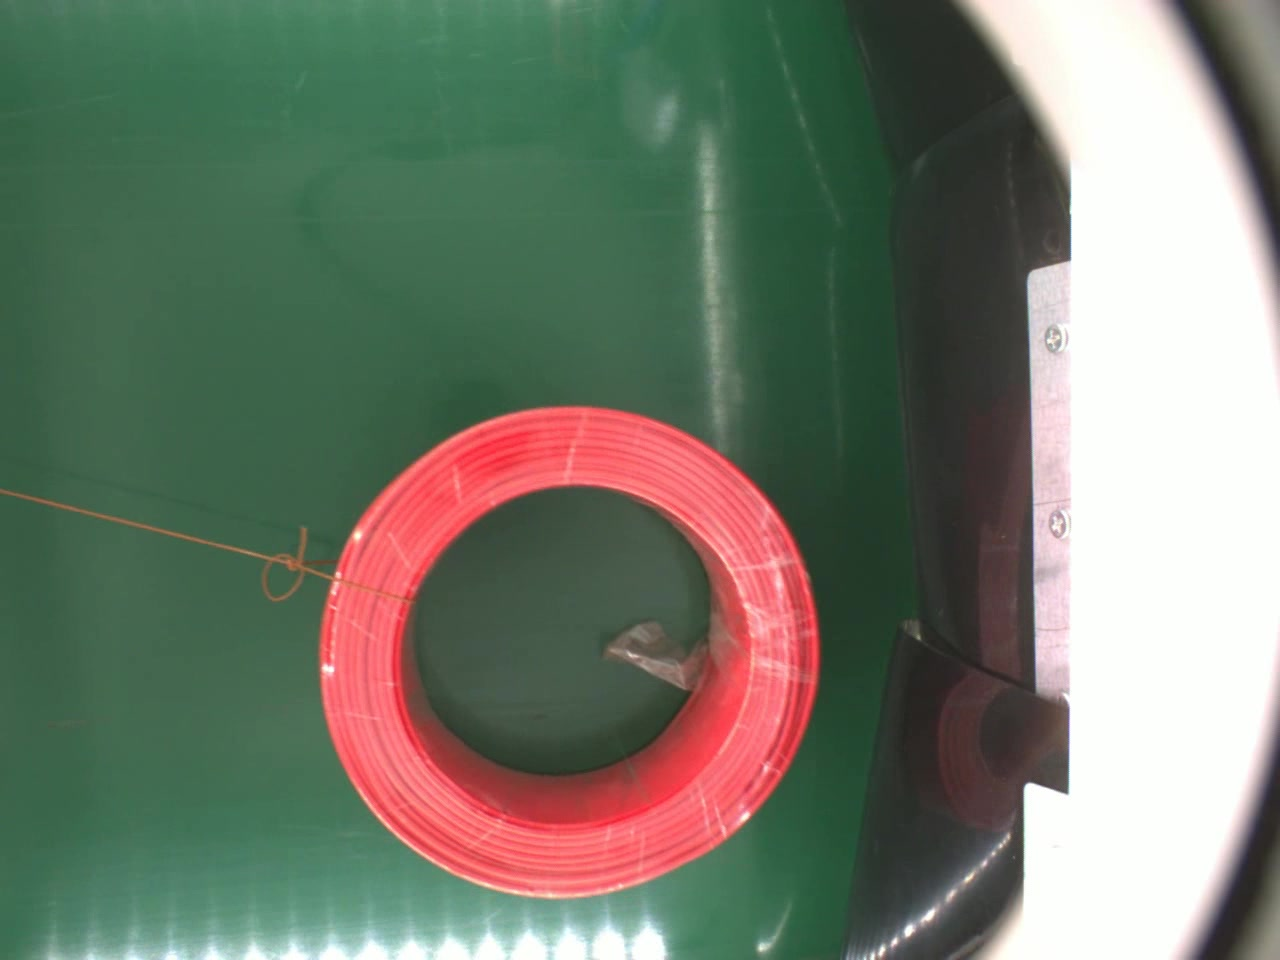red: (310, 404, 819, 899)
